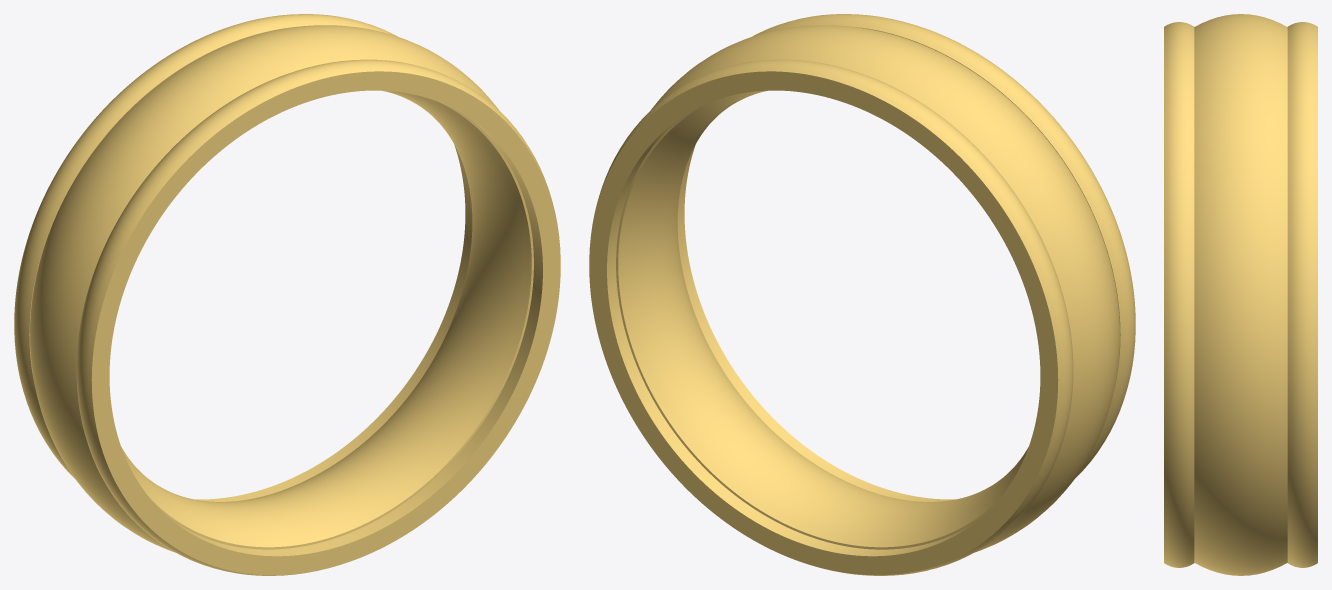
File: DavidYG_webgi.glb
3 renders of one model, left to right at view 1: azimuth 30°, elevation 25°; view 2: azimuth 150°, elevation 25°; view 3: azimuth 270°, elevation 25°, orthographic.
Visible parts, largest first — view 1: David_YG_2_for_3d_model; view 2: David_YG_2_for_3d_model; view 3: David_YG_2_for_3d_model.
Part boxes in pixels (x1,y1,x2,y2): David_YG_2_for_3d_model: [14, 14, 560, 575]; David_YG_2_for_3d_model: [589, 14, 1135, 575]; David_YG_2_for_3d_model: [1164, 14, 1317, 575].
Size of the model in its own units: 2.78 by 2.78 by 0.7596.
